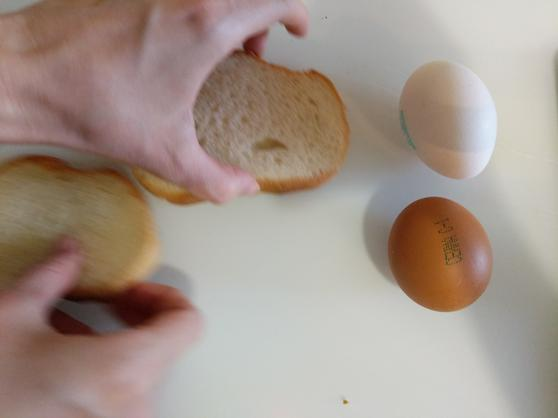egg: (399, 58, 502, 181), (389, 197, 493, 313)
white_bread: (142, 43, 353, 211)
